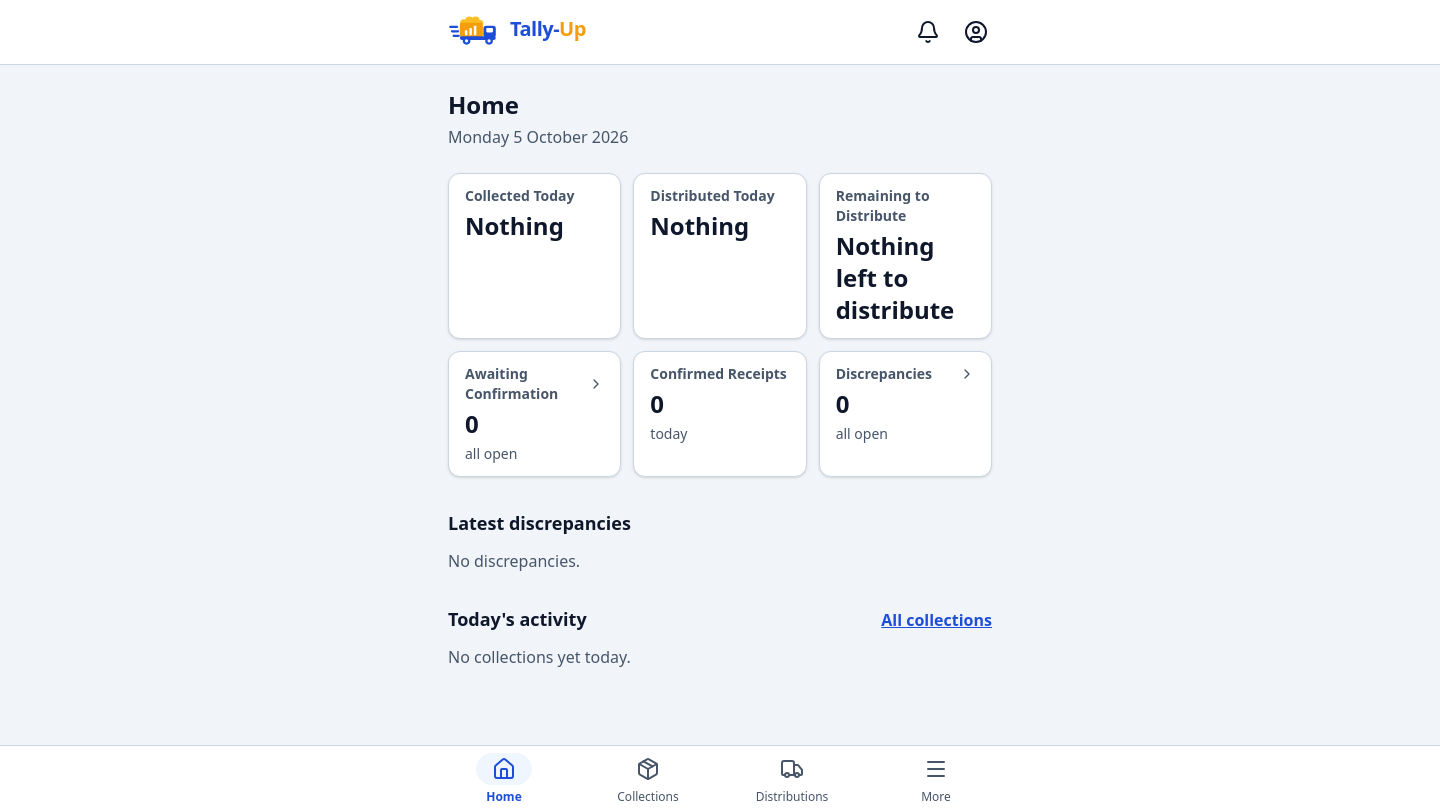
Scenario: Admin portal (Q-47) › closes the account menu with Escape and returns focus to the button
Click the button named "Account": (976, 32) [952, 8, 1000, 56]
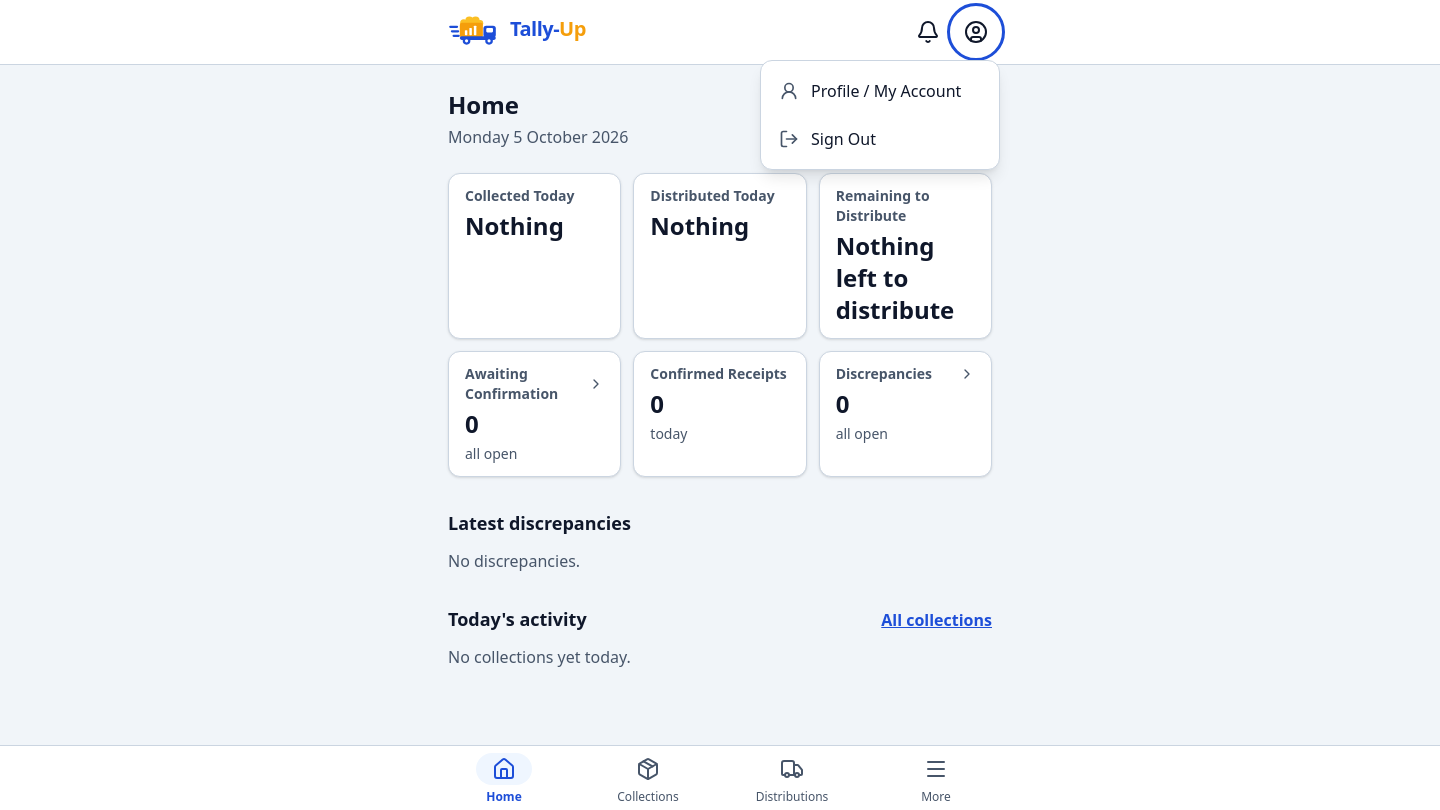
Press Escape
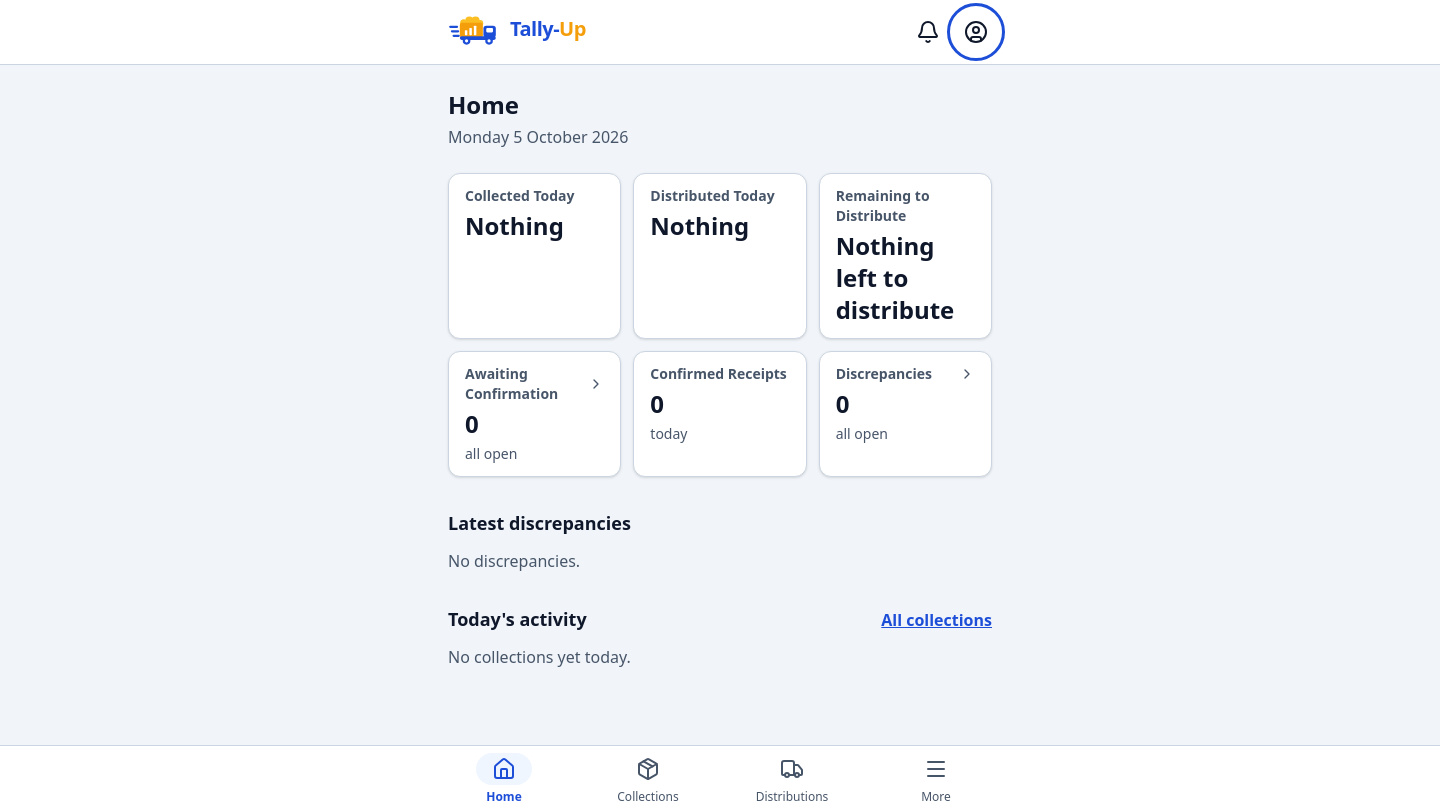
Expected: the link "Profile / My Account" is gone
